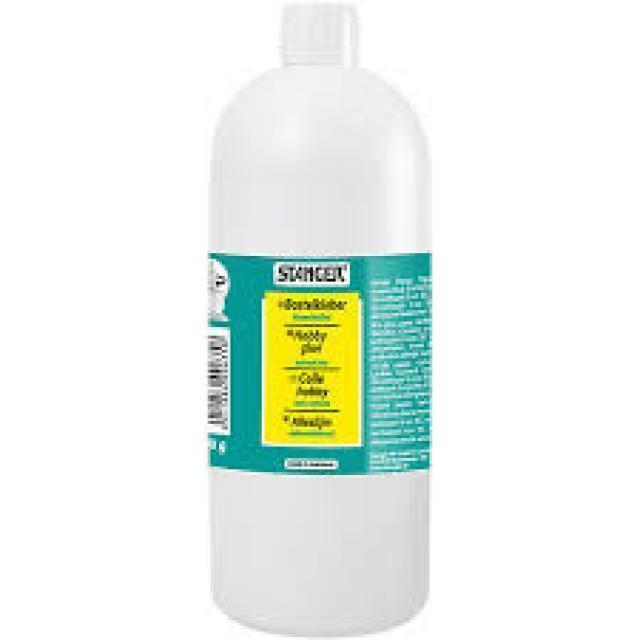Plastic: (208, 0, 433, 637)
